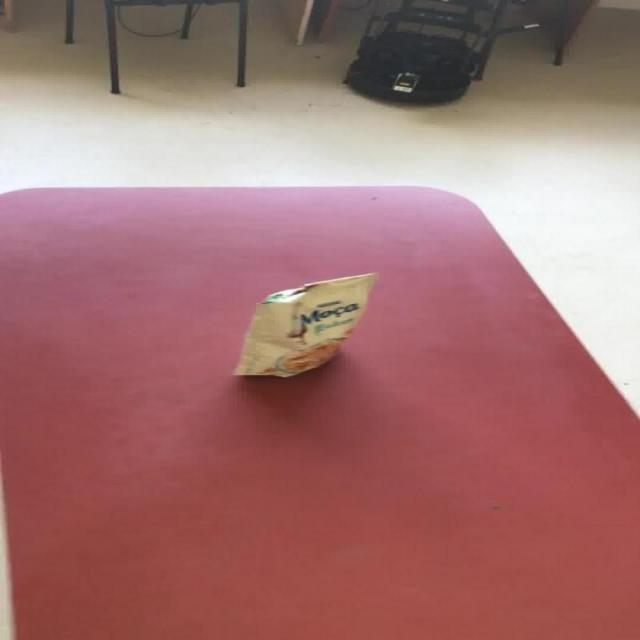CornFlakes: (230, 271, 378, 378)
